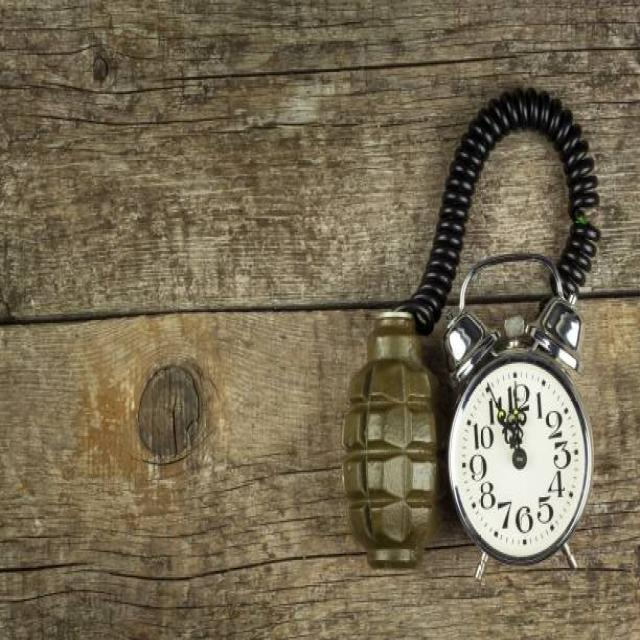grenade: (331, 300, 444, 579)
